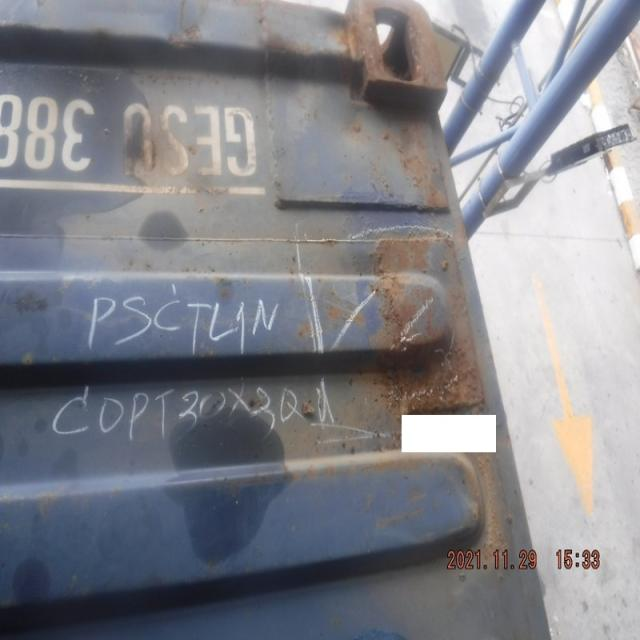hole: (388, 353, 465, 410)
